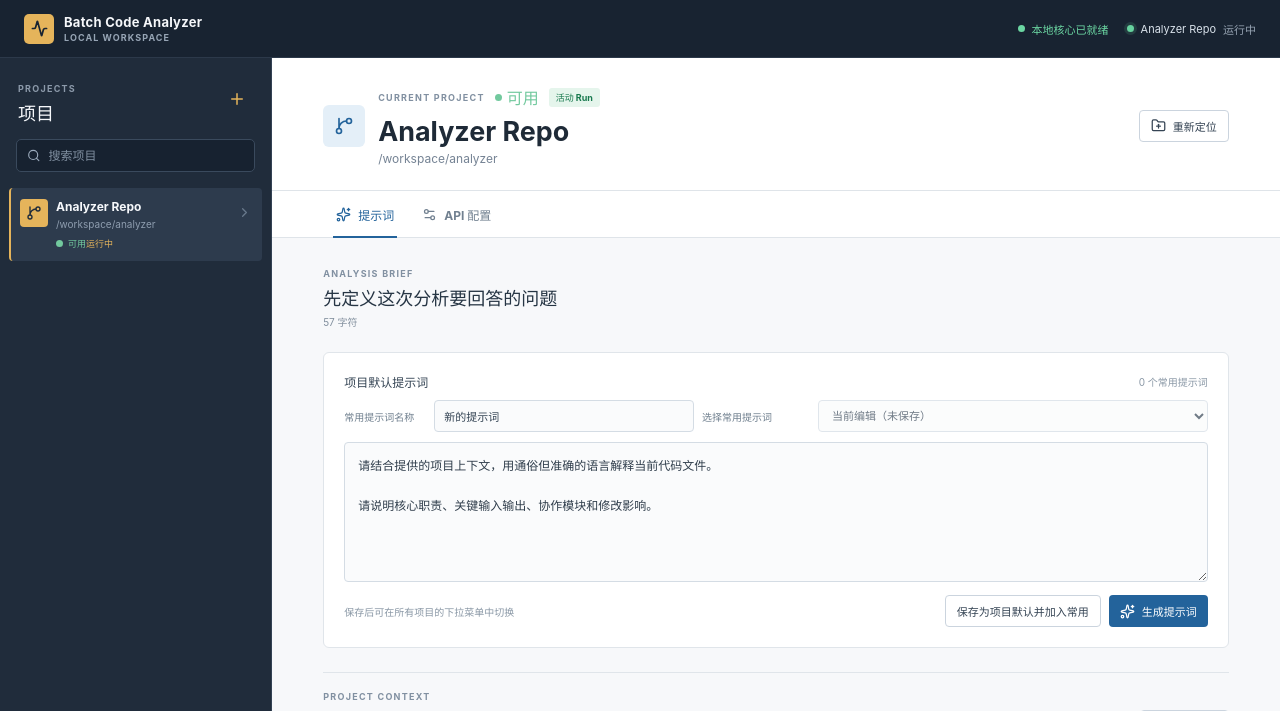
Test: AppShell › shows the active run and keeps the two tabs fixed
The width and height of the screenshot is (1280, 711).
Check: the text "活动 Run" is shown, box [549, 88, 600, 106]
Check: the text "运行中" is shown 2 times, box [1223, 20, 1256, 36]; [86, 238, 113, 249]
Click the tab "API 配置": coordinates (457, 214) [409, 191, 504, 237]
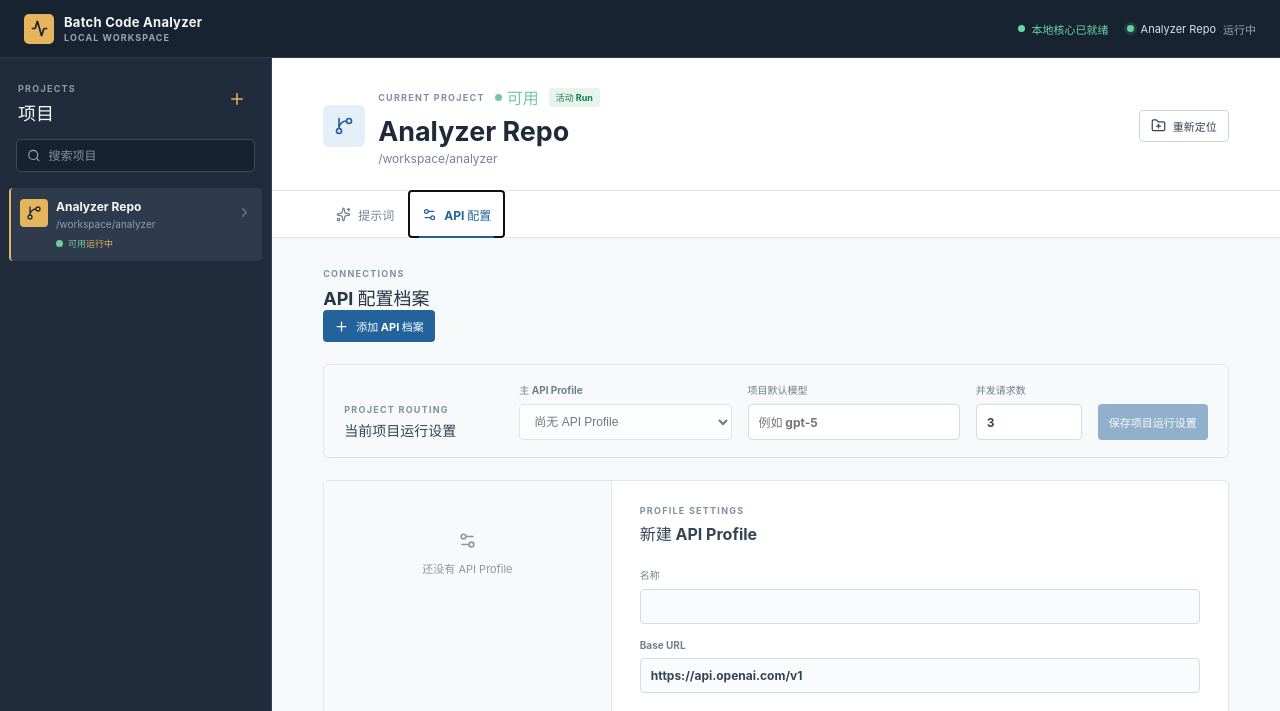
Check: the heading "API 配置档案" is shown, box [323, 288, 430, 309]
